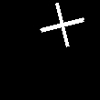single_crochet: (40, 3, 83, 46)
